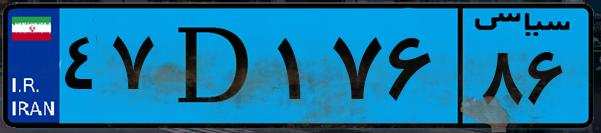1: (270, 28, 330, 110)
4: (57, 26, 110, 100)
6: (385, 28, 445, 110), (525, 38, 570, 115)
7: (330, 28, 385, 110), (110, 28, 158, 98)
8: (475, 38, 525, 113)
D: (158, 12, 270, 120)
